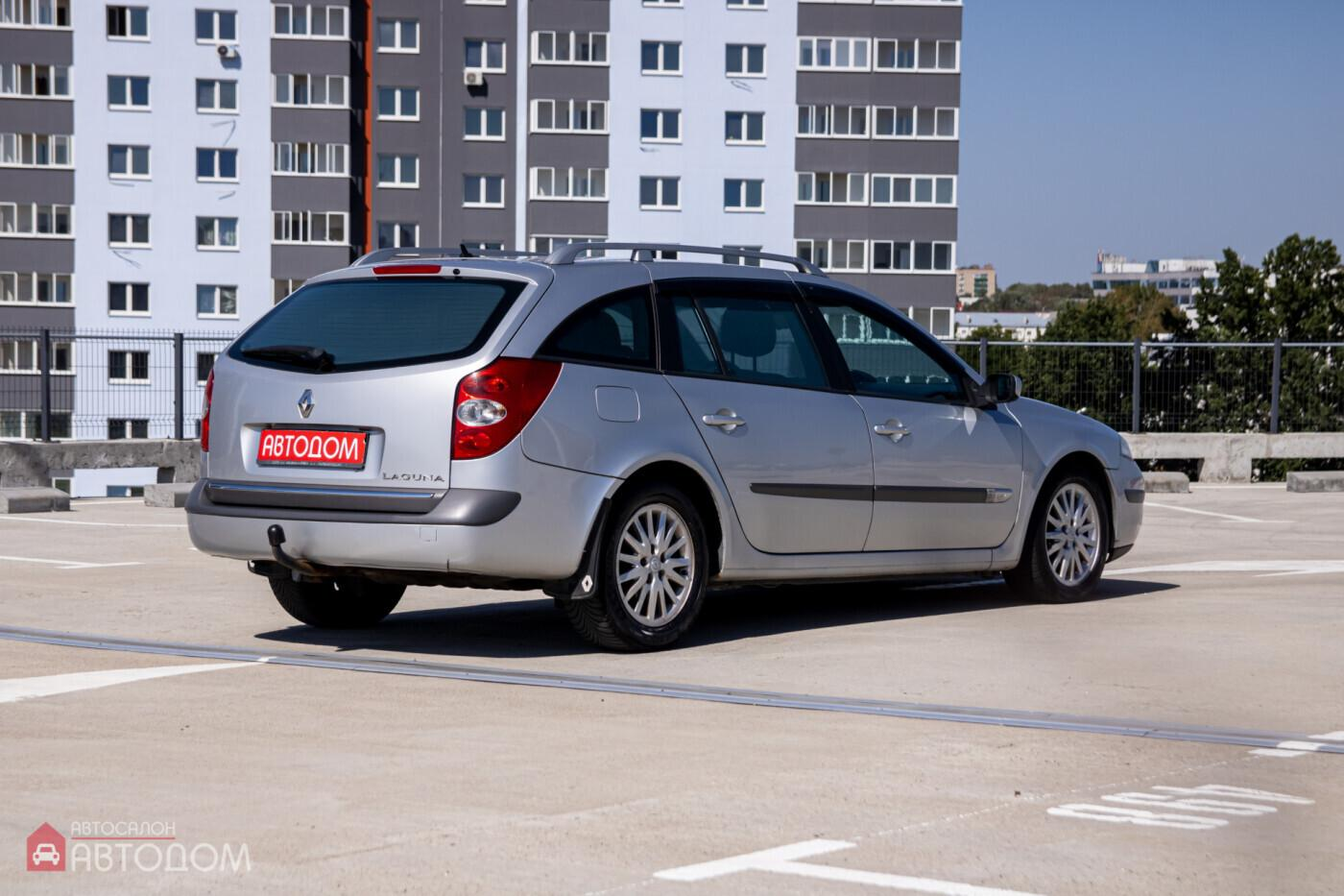Laguna_2005-2007: (178, 238, 1147, 645)
